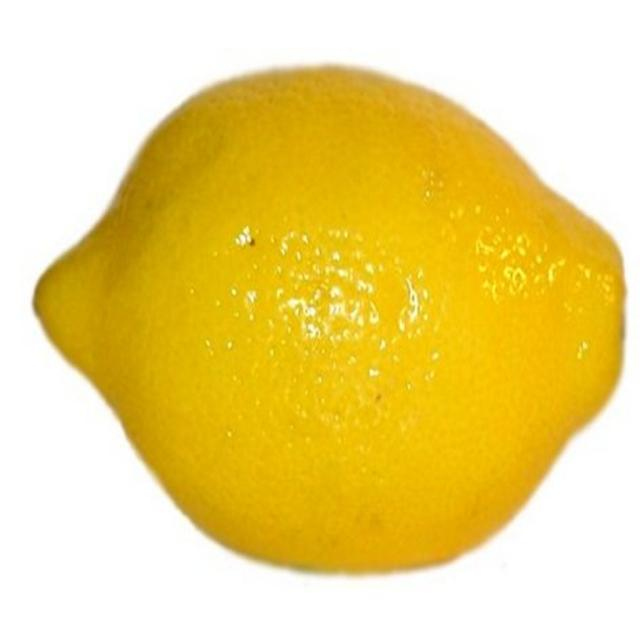lemon: (24, 54, 640, 574)
